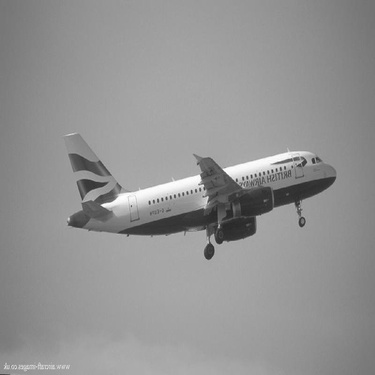airplane: (43, 127, 346, 264)
